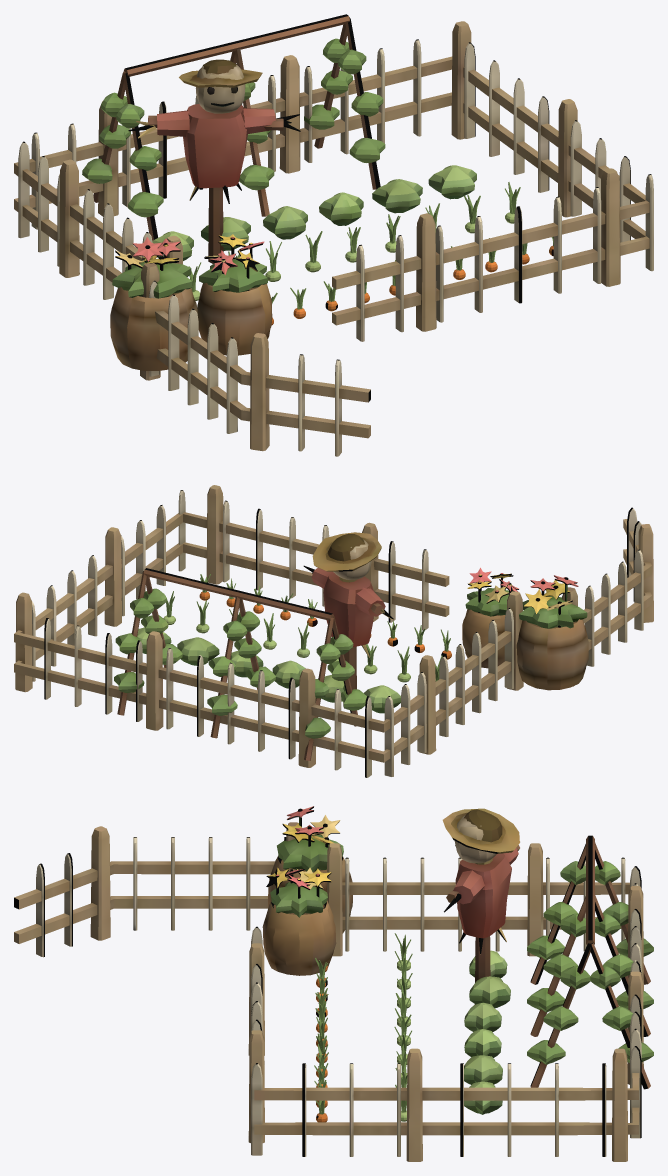
The model's file is foundation_garden.glb.
The picture shows the model from 3 angles, top to bottom: view 1: azimuth 30°, elevation 25°; view 2: azimuth 150°, elevation 25°; view 3: azimuth 270°, elevation 25°; orthographic projection. The views are drawn at different scales.
Parts seen in each view (by area): view 1: Garden, garden_f_crop; view 2: Garden, garden_f_crop; view 3: Garden, garden_f_crop.
Part boxes in pixels (x1,y1,x2,y2): Garden: (14,14,653,456); garden_f_crop: (189,182,553,309); Garden: (14,485,653,777); garden_f_crop: (166,574,450,681); Garden: (14,806,653,1161); garden_f_crop: (314,933,412,1114).
Bounding box in the file's own units: 4.05 × 1.55 × 4.53.
Materials: 2 (1 with a texture image).
